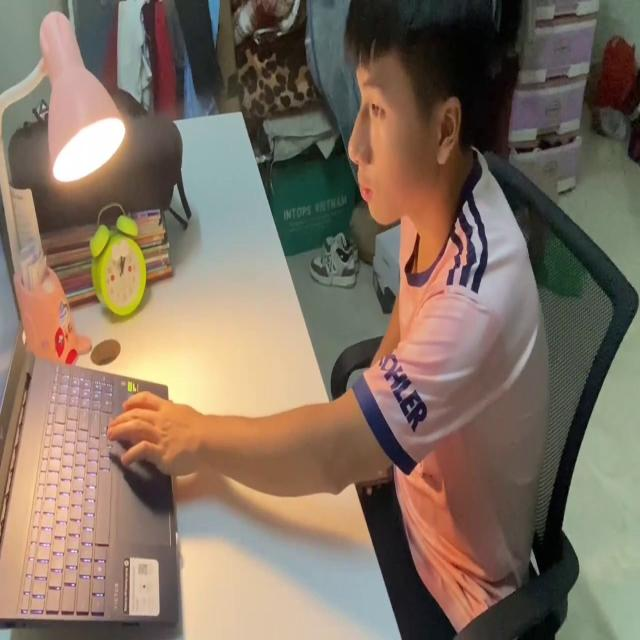laptop: (0, 217, 183, 640)
student: (108, 6, 559, 640)
